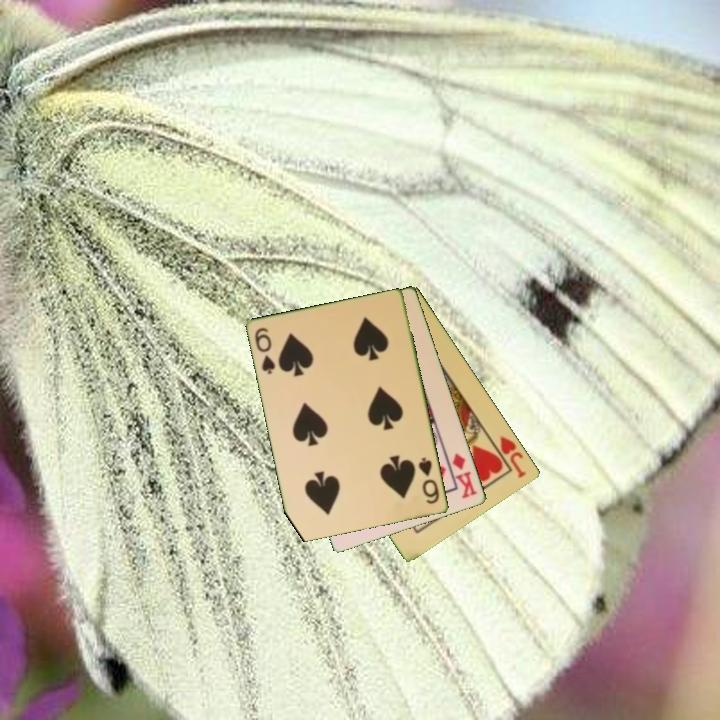6s: (415, 454, 443, 507), (251, 324, 278, 377)
Jh: (497, 432, 529, 481)
Kd: (449, 450, 480, 501)
